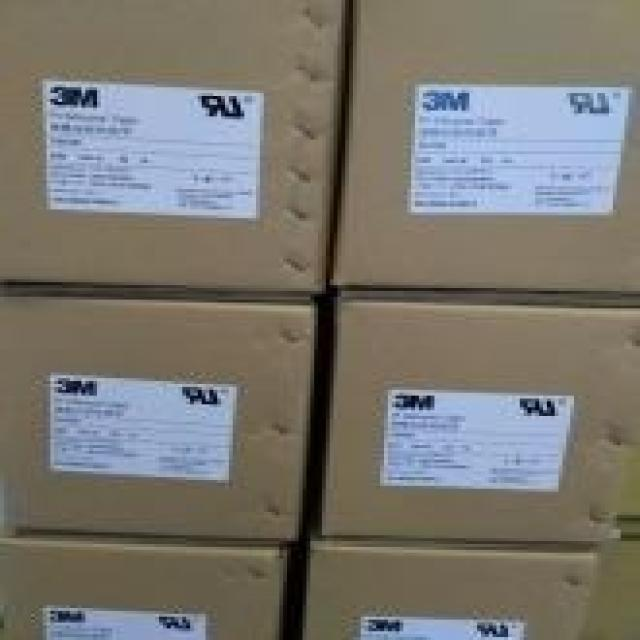Carton: (4, 0, 341, 288), (330, 3, 636, 291), (314, 303, 636, 550), (0, 297, 310, 535), (8, 541, 279, 637), (299, 550, 593, 637)
